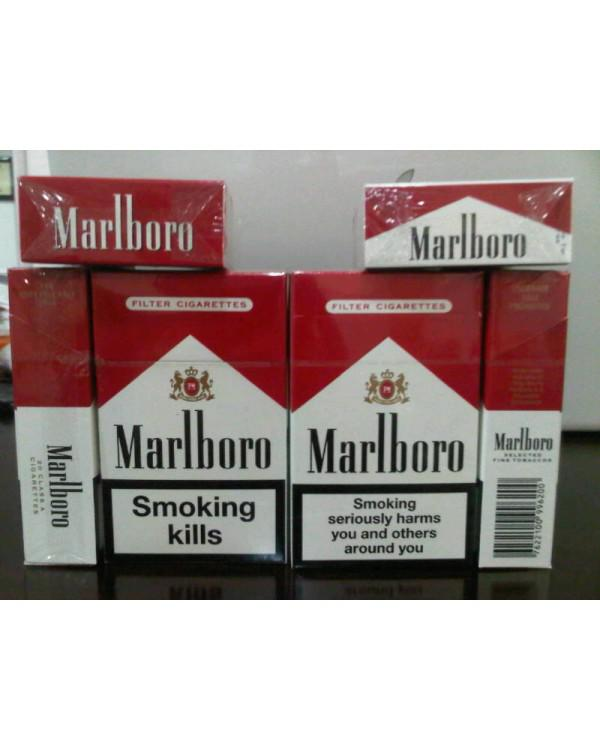marlboro_red: (98, 275, 286, 569), (295, 279, 480, 563)
